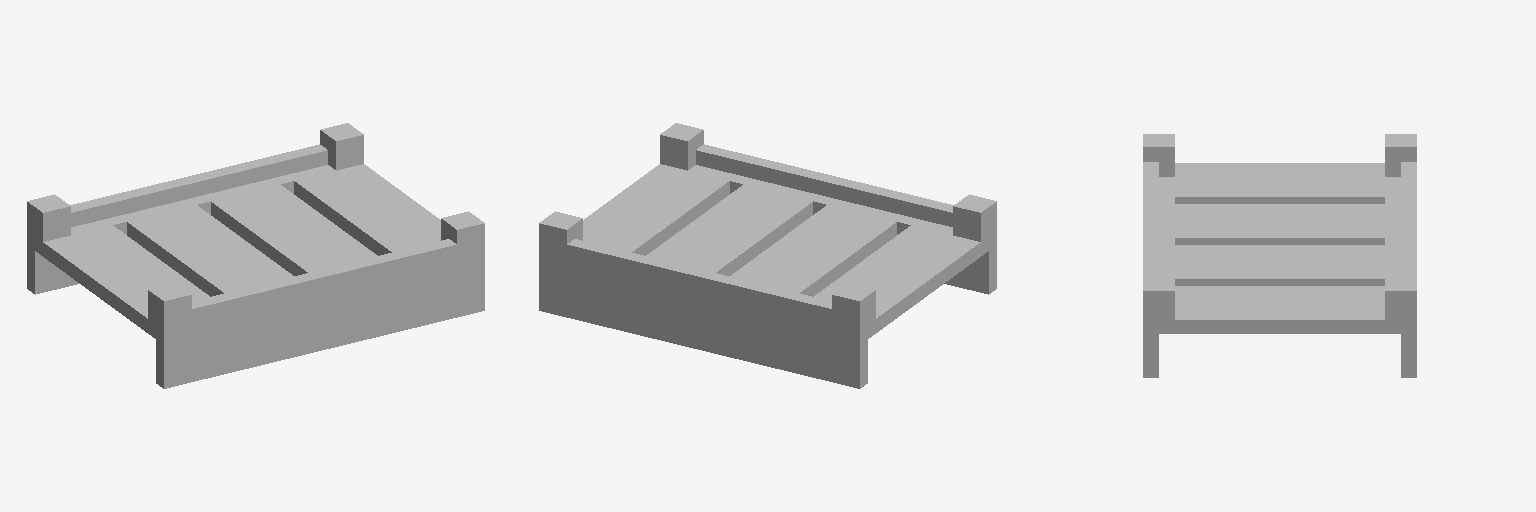
File: WoodenBridge3.obj
3 renders of one model, left to right at view 1: azimuth 30°, elevation 25°; view 2: azimuth 150°, elevation 25°; view 3: azimuth 270°, elevation 25°, orthographic.
Visible parts, largest first — view 1: object 1; view 2: object 1; view 3: object 1.
Boxes of the visible parts, box(x1,y1,x2,y2) form: object 1: box(27, 123, 484, 388); object 1: box(539, 123, 996, 388); object 1: box(1143, 134, 1416, 377).
Bounding box in the file's own units: 2.3 × 0.6 × 1.7.